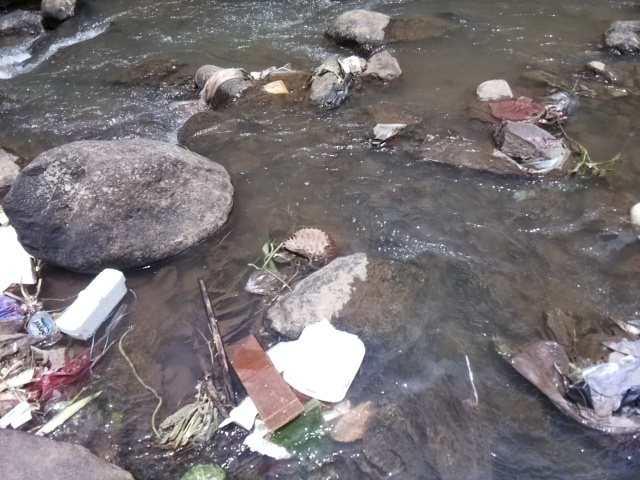Sampah_Plastik: (505, 309, 640, 439), (485, 89, 574, 129), (27, 350, 96, 397), (1, 292, 25, 325)
Sampah_Styrofoam: (266, 317, 370, 408), (53, 266, 131, 341)
